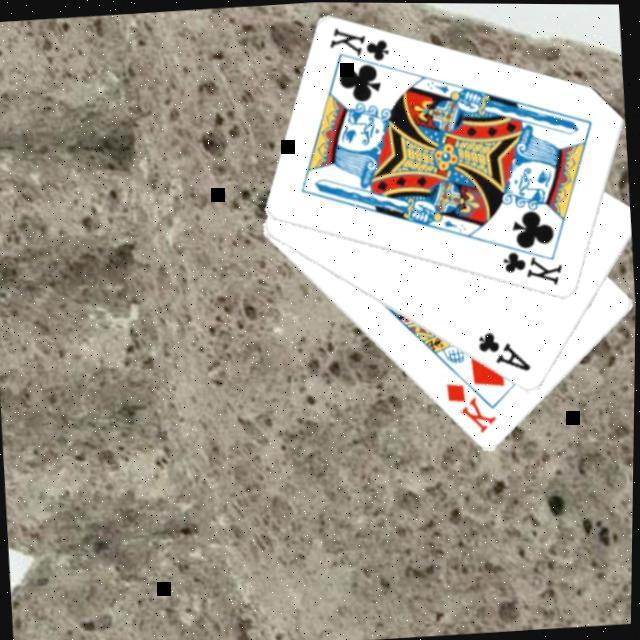AC: (472, 324, 534, 376)
KC: (322, 19, 394, 75), (495, 234, 566, 290)
KD: (440, 376, 500, 438)
